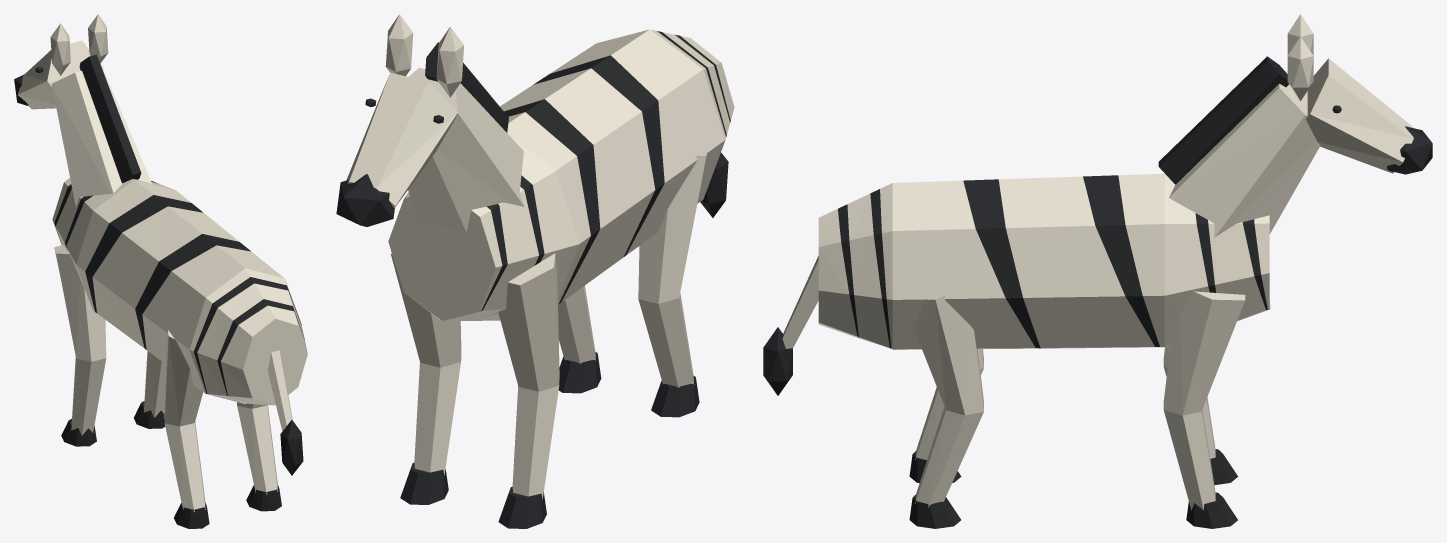
Rendered from zebra.fbx.
The picture shows the model from 3 angles, left to right: view 1: azimuth 30°, elevation 25°; view 2: azimuth 150°, elevation 25°; view 3: azimuth 270°, elevation 25°; orthographic projection. The views are drawn at different scales.
Visible parts, largest first — view 1: zebra; view 2: zebra; view 3: zebra.
Boxes of the visible parts, x1,y1,x2,y2 form: zebra: [14, 14, 307, 528]; zebra: [336, 14, 734, 528]; zebra: [763, 14, 1432, 528].
Size of the model in its own units: 0.658 by 2.04 by 2.62.
